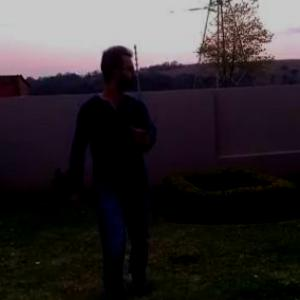takeoff-hand: (127, 107, 159, 147)
